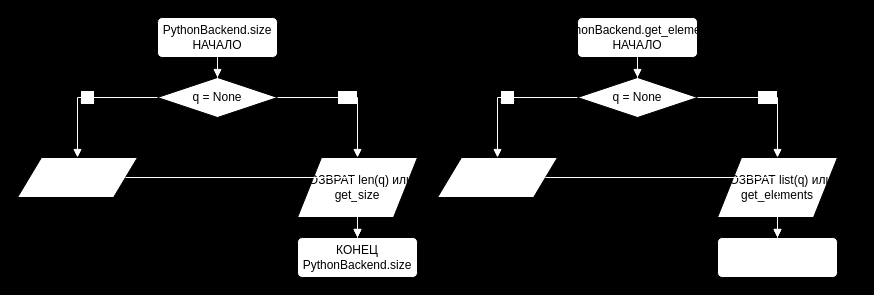
Image size: 874x295. Some labels were removed from this diagram. Here are the shapes that lost their labels. From the top down, the centre of each, then its label:
At (77,177): "ВОЗВРАТ 0".
At (497,177): "ВОЗВРАТ []".
At (777,257): "КОНЕЦ PythonBackend.get_elements".
